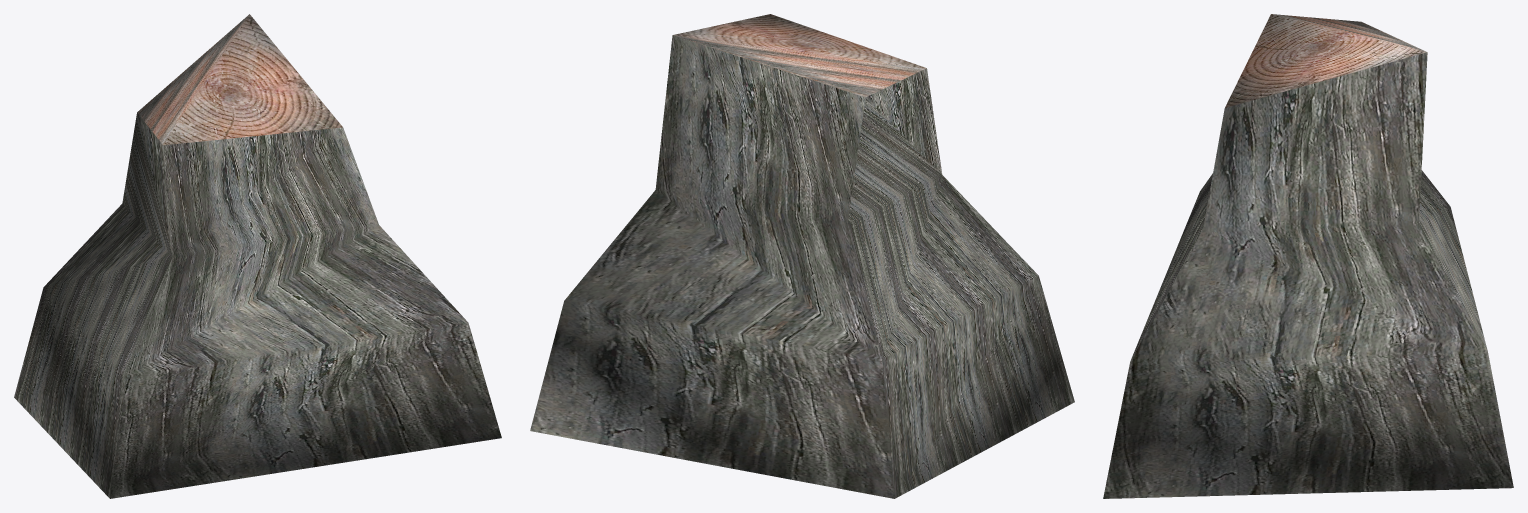
Rendered from decd_stump_med_l3.fbx.
3 renders of one model, left to right at view 1: azimuth 30°, elevation 25°; view 2: azimuth 150°, elevation 25°; view 3: azimuth 270°, elevation 25°, orthographic. The views are drawn at different scales.
Parts seen in each view (by area): view 1: mesh_node; view 2: mesh_node; view 3: mesh_node.
Part boxes in pixels (bbox=[...]): mesh_node: bbox=[14, 14, 501, 498]; mesh_node: bbox=[530, 14, 1074, 498]; mesh_node: bbox=[1103, 14, 1513, 498].
Bounding box in the file's own units: 2.88 × 2.66 × 2.56.
